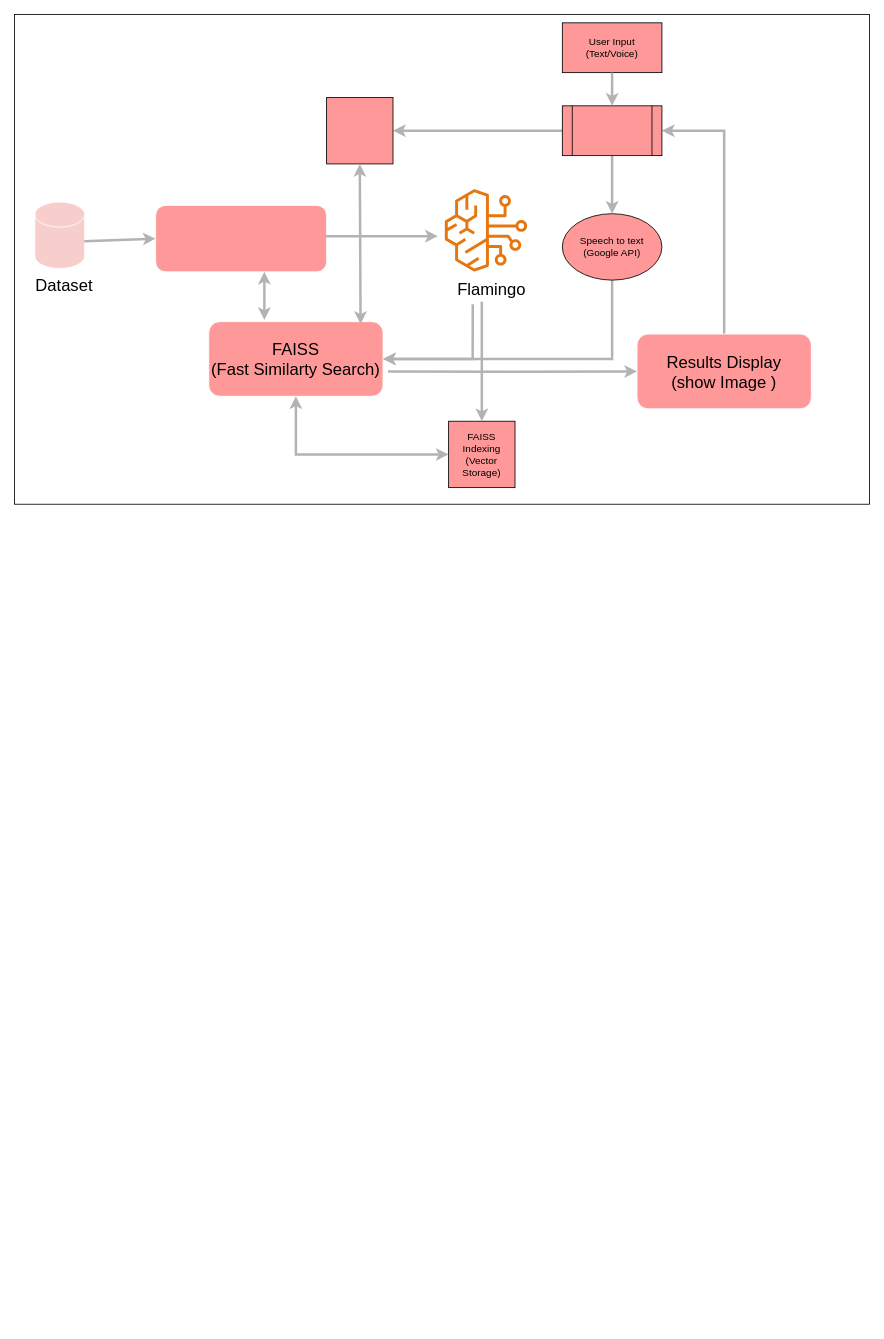
This 884x1339 diagram has some shape labels left out. The box of each missing label's shape, as (x1, y1, x2, y2) in pixels:
Image Preprocessing (Torchvision): (155, 205, 327, 272)
Streamlit App (User Interface): (561, 105, 662, 156)
Text to Embedding (Tokenization): (326, 97, 393, 164)
